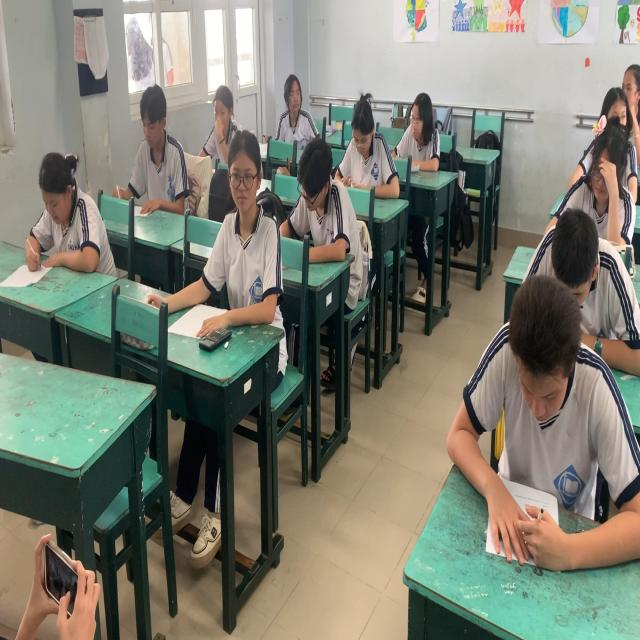cheating: (273, 67, 315, 160)
not_cheating: (470, 275, 621, 537), (205, 120, 272, 344), (545, 200, 638, 344), (21, 142, 105, 292), (290, 135, 352, 266), (572, 118, 632, 242), (132, 78, 182, 219), (343, 92, 402, 210), (398, 78, 442, 178), (594, 46, 640, 138), (204, 75, 244, 162)
